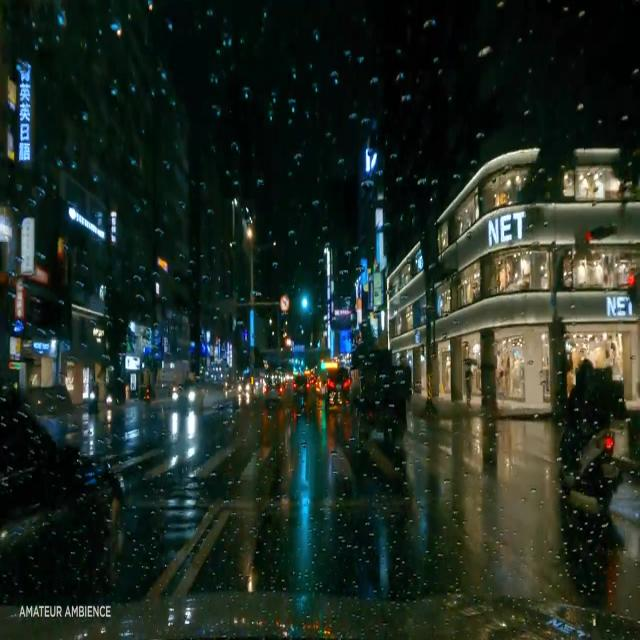Car: (3, 391, 119, 628), (320, 364, 352, 407), (168, 380, 204, 413), (261, 375, 284, 405), (290, 374, 309, 400)
